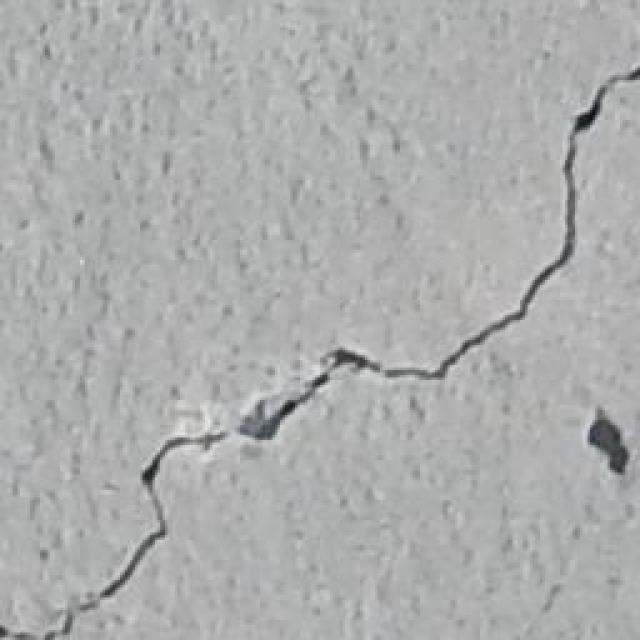concrete-crack: (238, 62, 640, 440), (38, 430, 228, 640), (585, 408, 628, 475)
